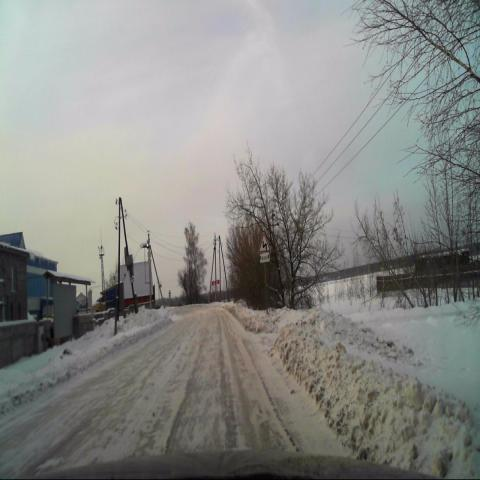1_12_2: (258, 233, 271, 253)
